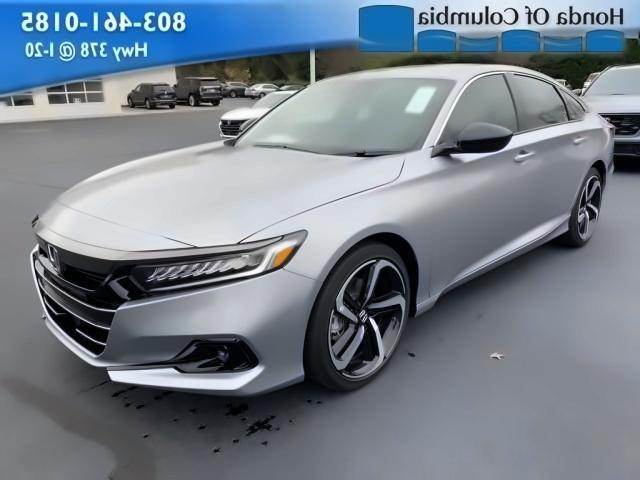Car hood: (27, 133, 410, 255)
Fender - -F-L-: (247, 134, 447, 310)
Fender - -R-L-: (569, 90, 617, 218)
Front bumper: (22, 229, 318, 397)
Headlight - -L-: (106, 229, 309, 309)
Passenger-s door - -F-L-: (412, 53, 539, 320)
Passenger-s door - -R-L-: (503, 58, 583, 266)
Side bumper - -L-: (399, 195, 578, 368)
Side mirror - -L-: (429, 115, 514, 163)
